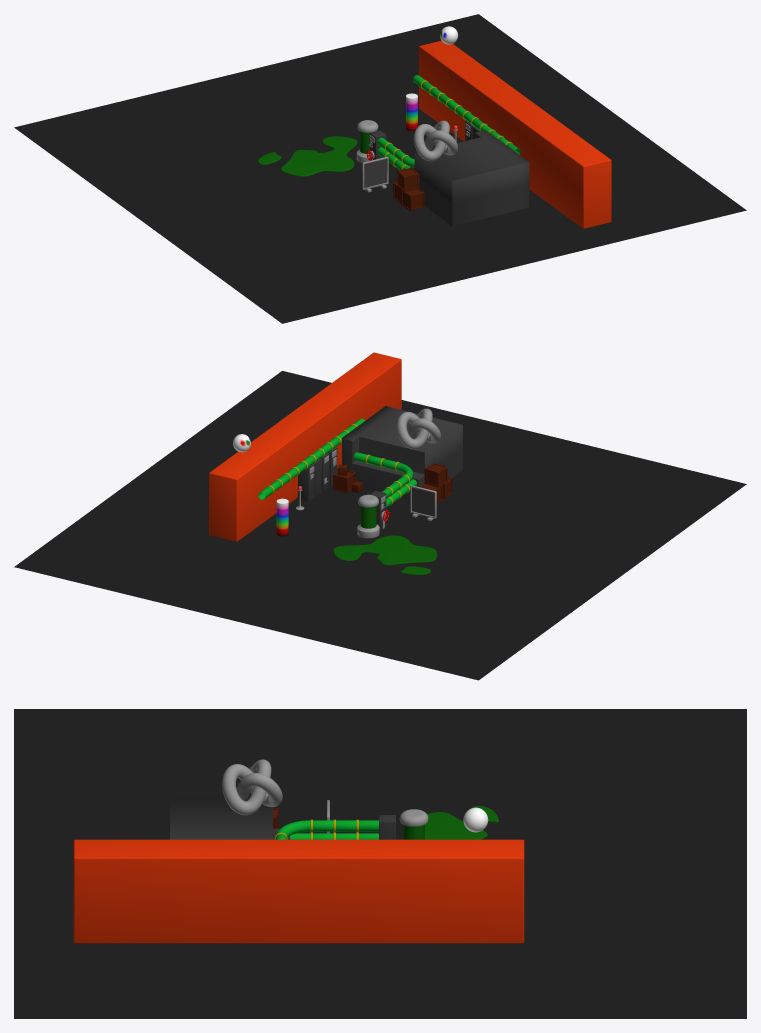
Rendered from CartoonUbershaderExample.FBX.
The picture shows the model from 3 angles, top to bottom: view 1: azimuth 30°, elevation 25°; view 2: azimuth 150°, elevation 25°; view 3: azimuth 270°, elevation 25°; orthographic projection. The views are drawn at different scales.
Parts seen in each view (by area): view 1: Object003, ChamferBox011, Box002, Line001, Torus Knot001, Cylinder006, ChamferBox020, ChamferCyl003; view 2: Object003, ChamferBox011, Box002, Line001, Torus Knot001, Cylinder006, Cylinder004, ChamferCyl003, ChamferBox020; view 3: Object003, ChamferBox011, Box002, Torus Knot001, Line001, Cylinder004, ChamferCyl003, Cylinder001.
Part boxes in pixels (x1,y1,x2,y2): Object003: (14, 14, 746, 323); ChamferBox011: (419, 40, 611, 228); Box002: (414, 130, 529, 226); Line001: (258, 136, 357, 176); Torus Knot001: (413, 120, 457, 161); Cylinder006: (413, 75, 520, 154); ChamferBox020: (362, 156, 388, 192); ChamferCyl003: (356, 120, 378, 162); Object003: (14, 371, 746, 680); ChamferBox011: (209, 352, 401, 541); Box002: (342, 406, 462, 500); Line001: (333, 535, 437, 574); Torus Knot001: (396, 408, 440, 449); Cylinder006: (258, 418, 364, 499); Cylinder004: (354, 452, 413, 498); ChamferCyl003: (357, 494, 379, 538); ChamferBox020: (410, 485, 436, 521); Object003: (14, 709, 746, 1018); ChamferBox011: (73, 839, 524, 943); Box002: (170, 798, 289, 839); Torus Knot001: (222, 759, 282, 815); Line001: (402, 806, 498, 839); Cylinder004: (274, 819, 378, 839); ChamferCyl003: (399, 809, 428, 839); Cylinder001: (290, 832, 378, 839).
Bounding box in the file's own units: 5039 × 950 × 5039.
